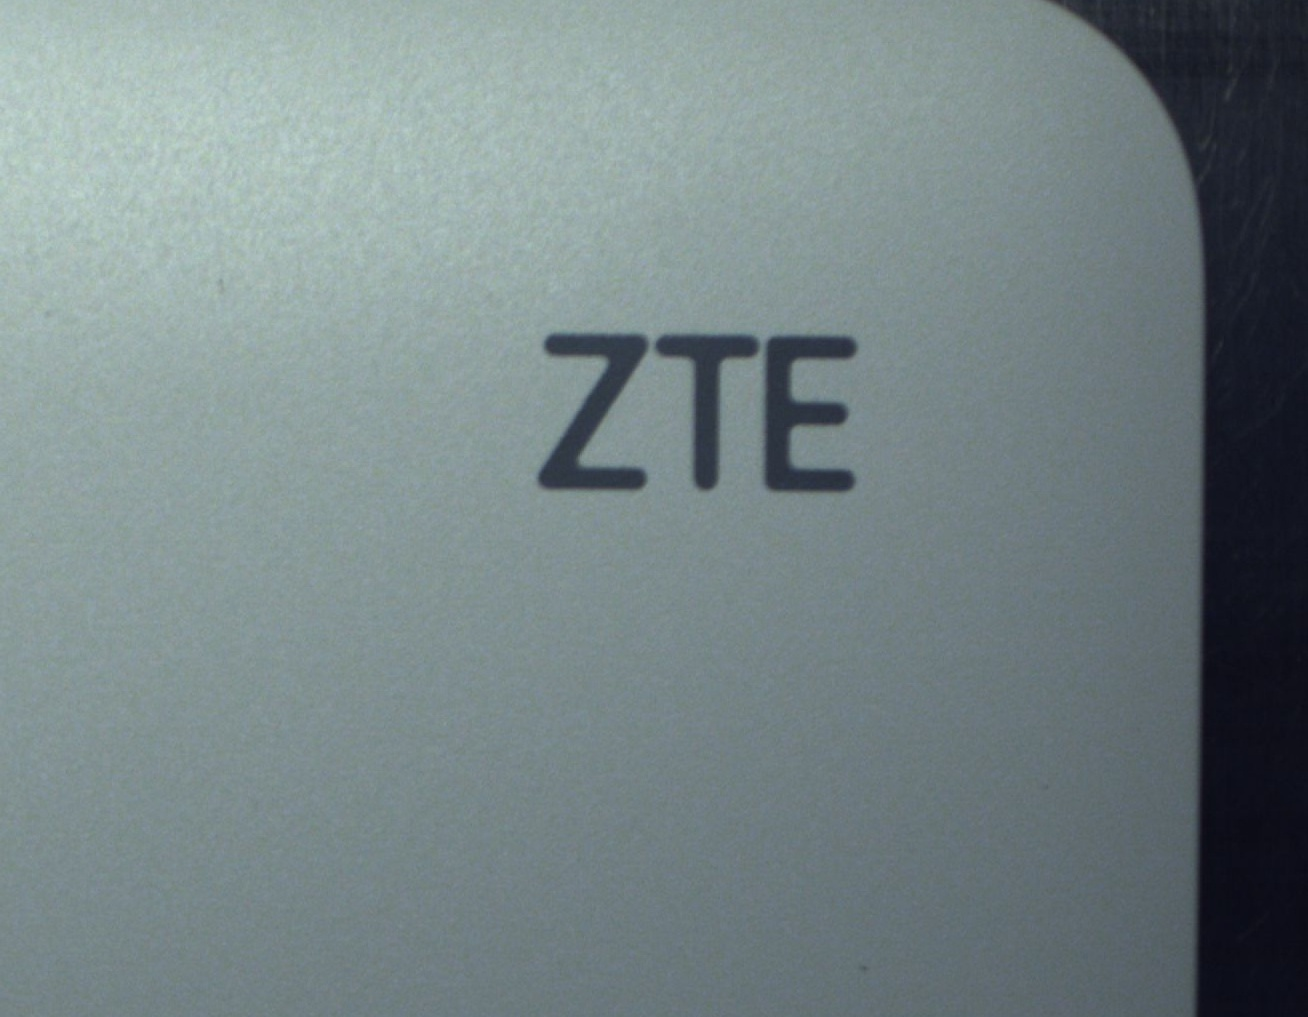AN_ZTE: (507, 318, 932, 525)
